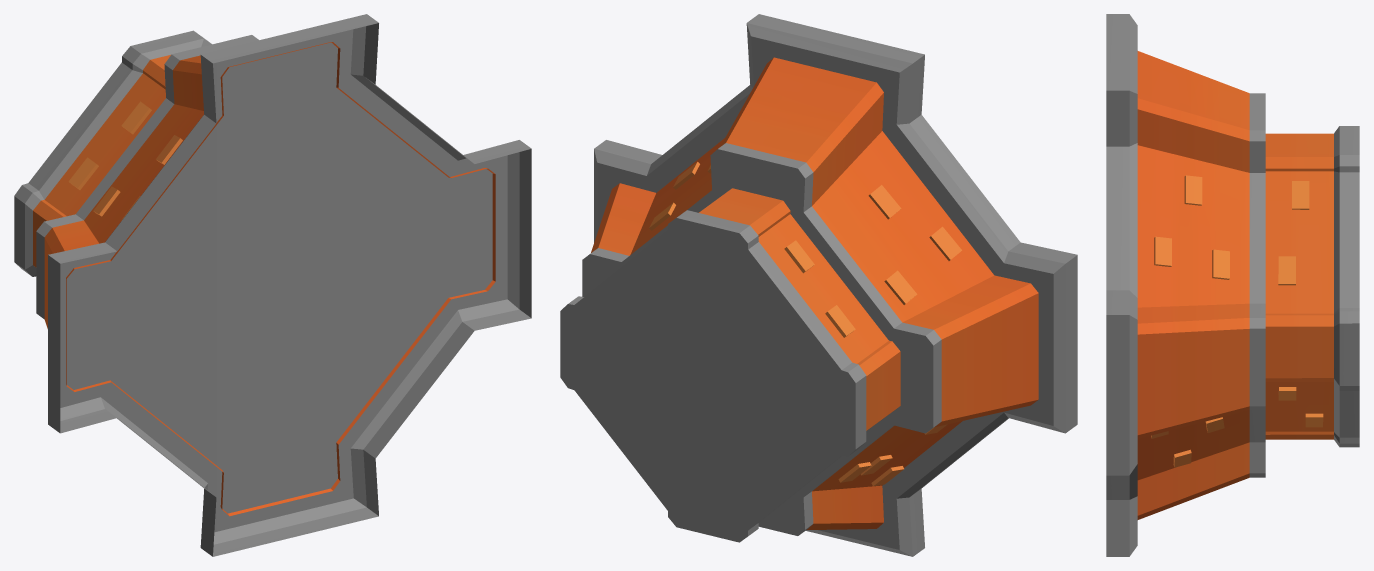
Rendered from MayorStatue_Base_B.fbx.
3 renders of one model, left to right at view 1: azimuth 30°, elevation 25°; view 2: azimuth 150°, elevation 25°; view 3: azimuth 270°, elevation 25°, orthographic. The views are drawn at different scales.
Parts seen in each view (by area): view 1: MayorStatue_Base_B; view 2: MayorStatue_Base_B; view 3: MayorStatue_Base_B.
Part boxes in pixels (x1,y1,x2,y2): MayorStatue_Base_B: (14,14,531,556); MayorStatue_Base_B: (560,14,1077,556); MayorStatue_Base_B: (1106,14,1359,556).
Size of the model in its own units: 1144 by 1144 by 563.
